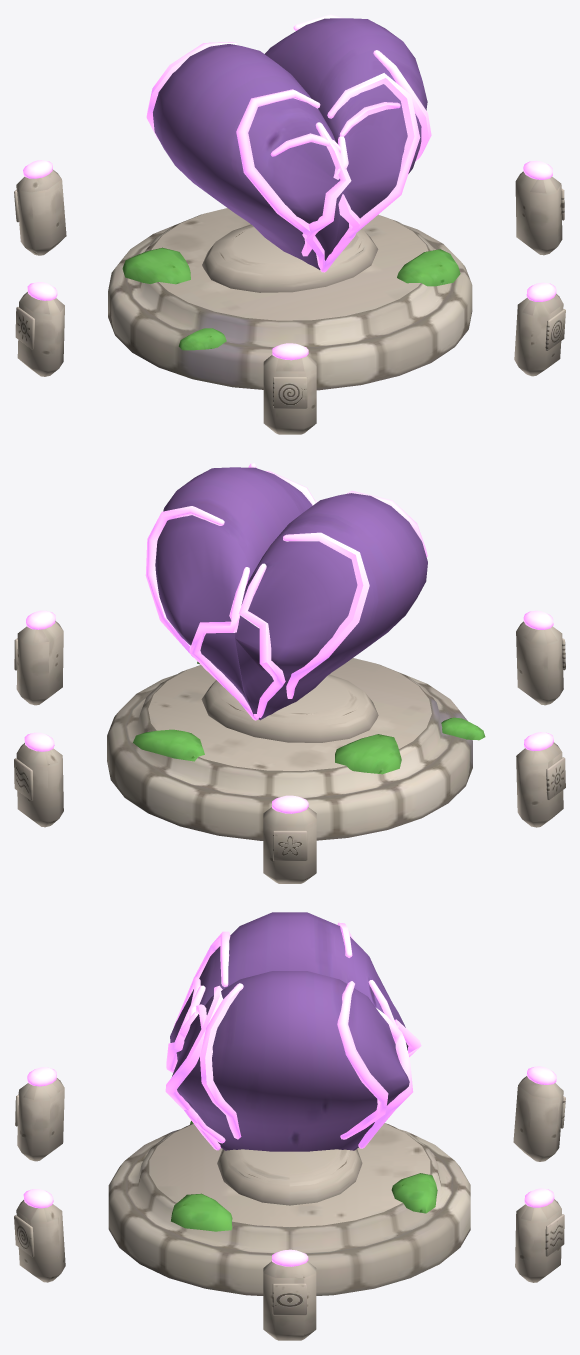
The model's file is heart_stone.glb.
3 renders of one model, top to bottom at view 1: azimuth 30°, elevation 25°; view 2: azimuth 150°, elevation 25°; view 3: azimuth 270°, elevation 25°, orthographic.
Parts seen in each view (by area): view 1: heart_stone; view 2: heart_stone; view 3: heart_stone.
Boxes of the visible parts, x1,y1,x2,y2 form: heart_stone: (14, 14, 565, 434); heart_stone: (14, 463, 565, 883); heart_stone: (14, 912, 565, 1340).
Size of the model in its own units: 11.15 by 5.47 by 9.99.
Materials: 3 (3 with a texture image).
